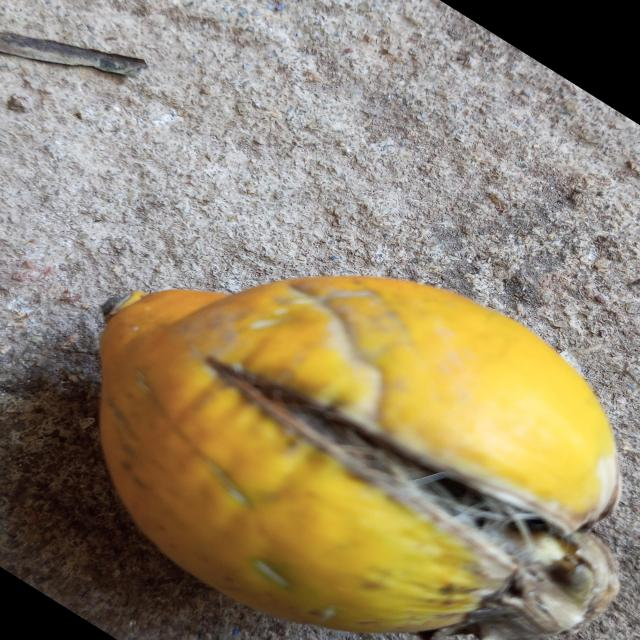damaged: (99, 276, 620, 640)
